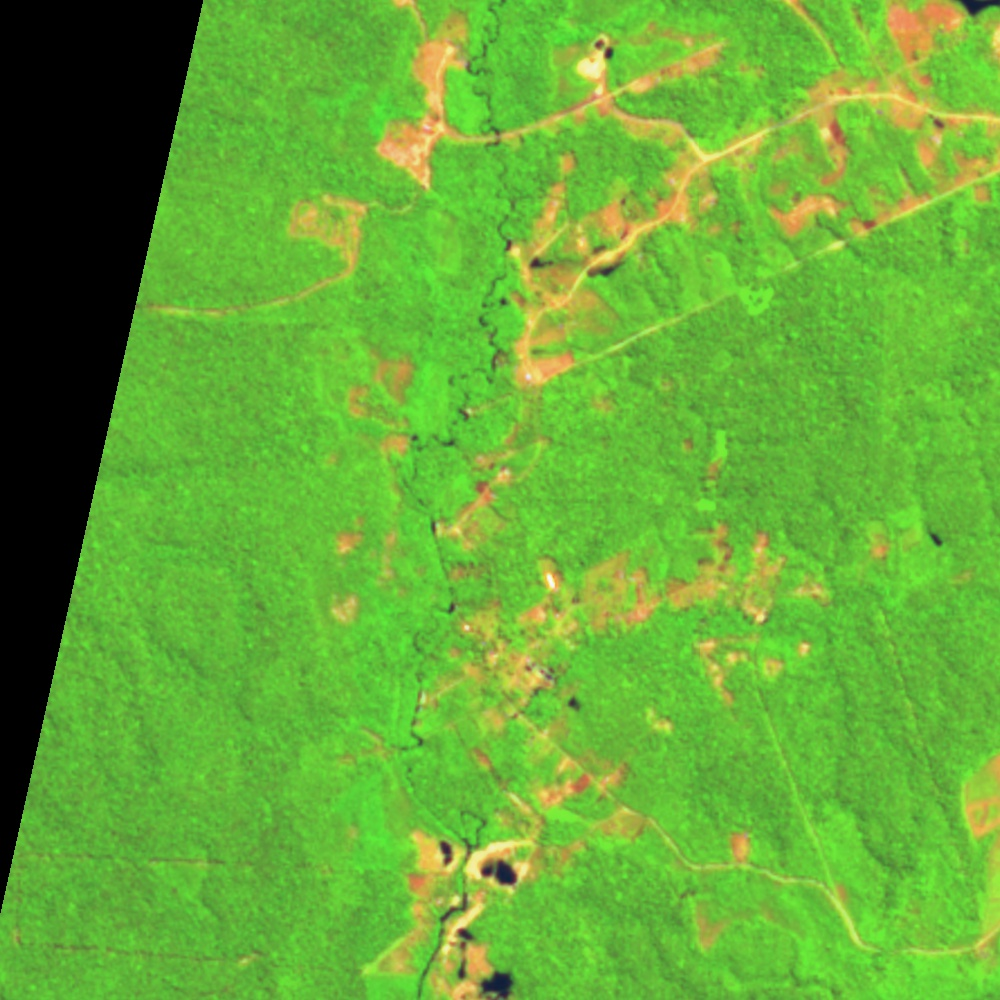legal: (508, 528, 840, 645), (366, 812, 561, 1000), (512, 149, 648, 386), (320, 348, 419, 630), (802, 71, 1000, 185), (422, 599, 584, 731), (602, 93, 741, 239), (374, 10, 475, 191), (847, 148, 1000, 235), (427, 425, 523, 546), (880, 1, 1000, 86), (957, 750, 1000, 958), (690, 633, 816, 694), (625, 26, 738, 93), (533, 726, 628, 803), (557, 35, 629, 121), (289, 193, 370, 268), (757, 185, 858, 232), (673, 428, 724, 518), (859, 518, 894, 566), (637, 705, 674, 736), (727, 834, 755, 870), (919, 521, 950, 551)
